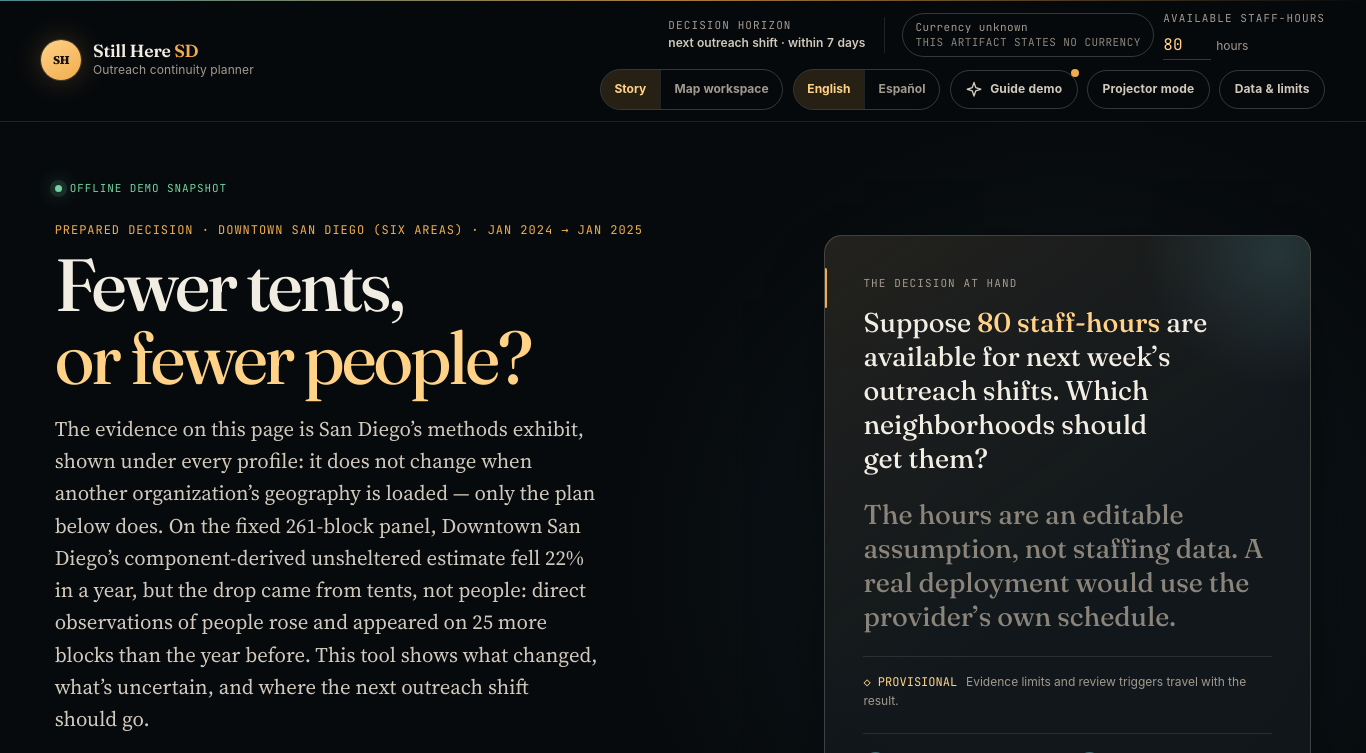
Test: guided onboarding › performs the task itself on Do it for me, and Back does not bounce forward
Expected: the text "Offline demo snapshot" is shown, [55,180,227,197]
Click the button "Guide demo" at (1014, 90), box [950,70,1078,109]
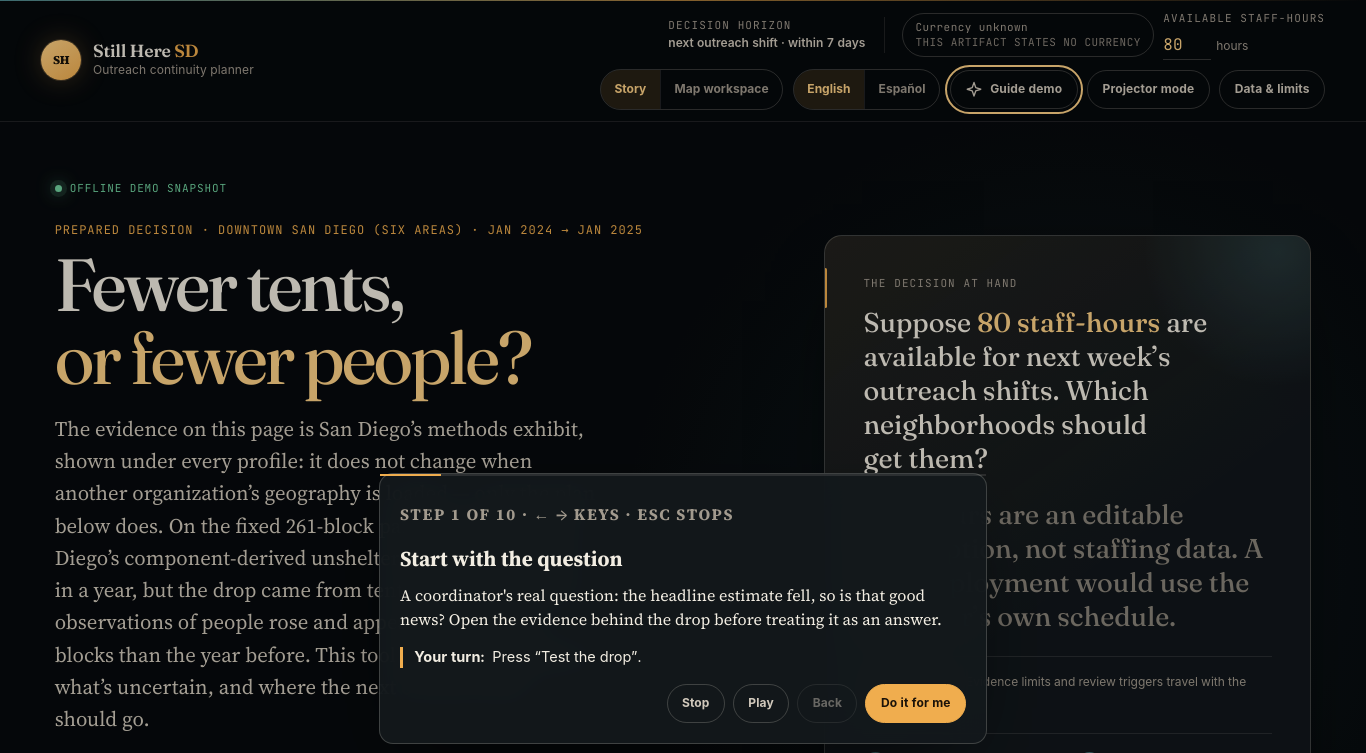
Click the button "Do it for me" at (916, 703), box [866,684,966,723]
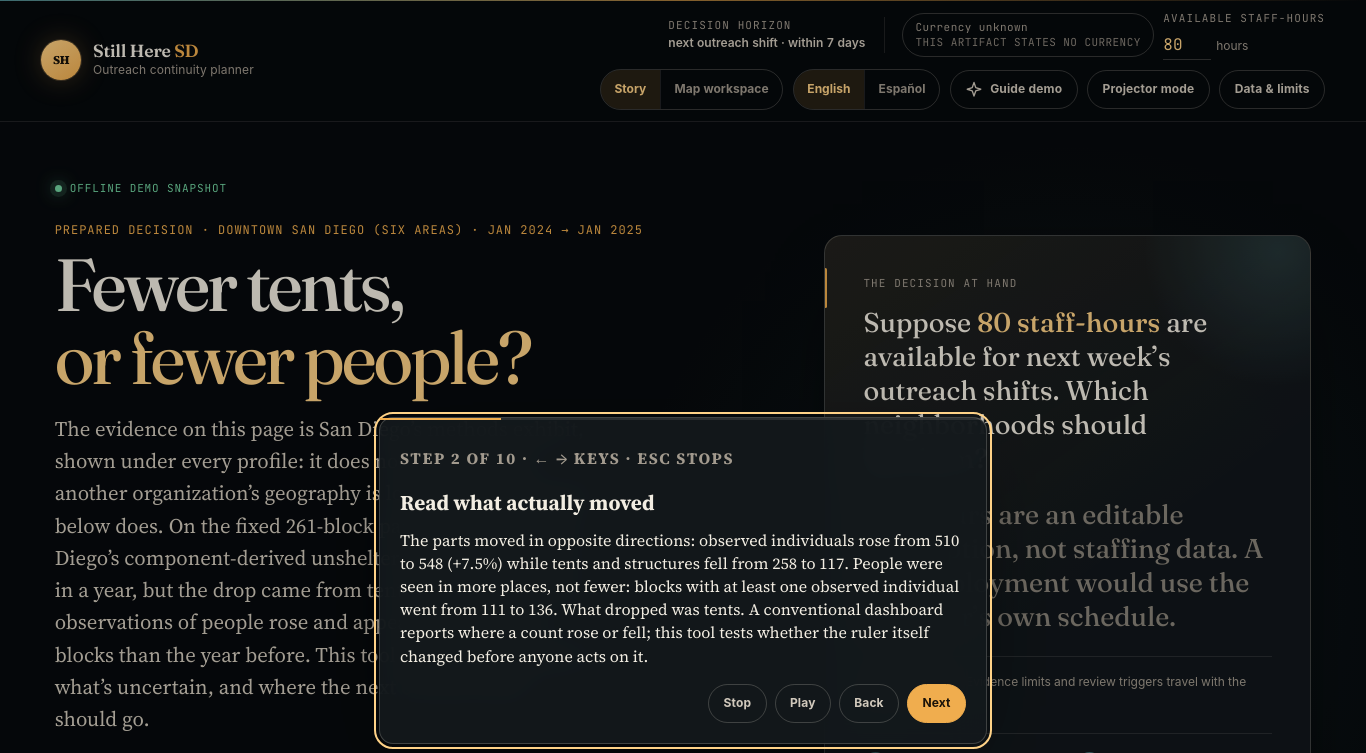
Now the dialog shows "Read what actually moved", box [400,488,654,517]
Click the button "Back" at (869, 703), box [839,684,899,723]
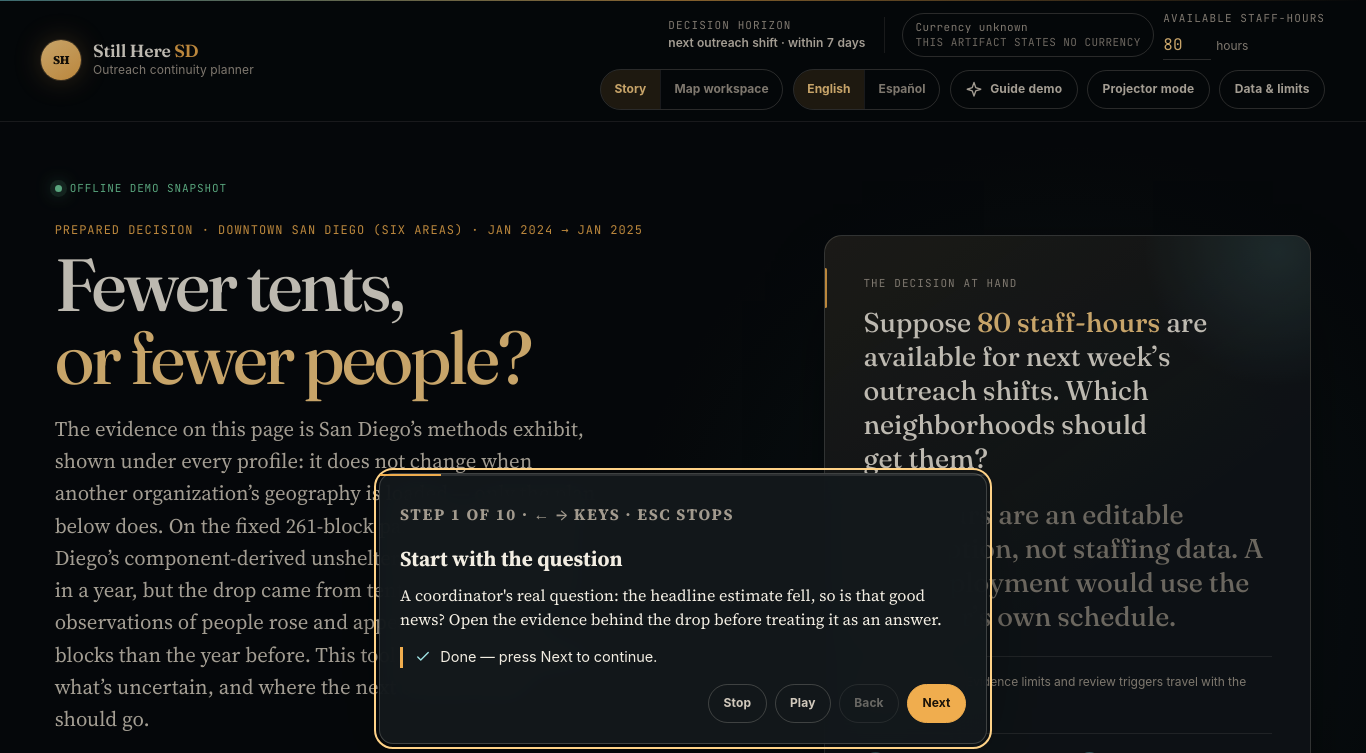
Now the dialog shows "Done — press Next to continue.", box [440,648,657,666]
Now the dialog shows "Step 1 of 10", box [400,503,734,525]
